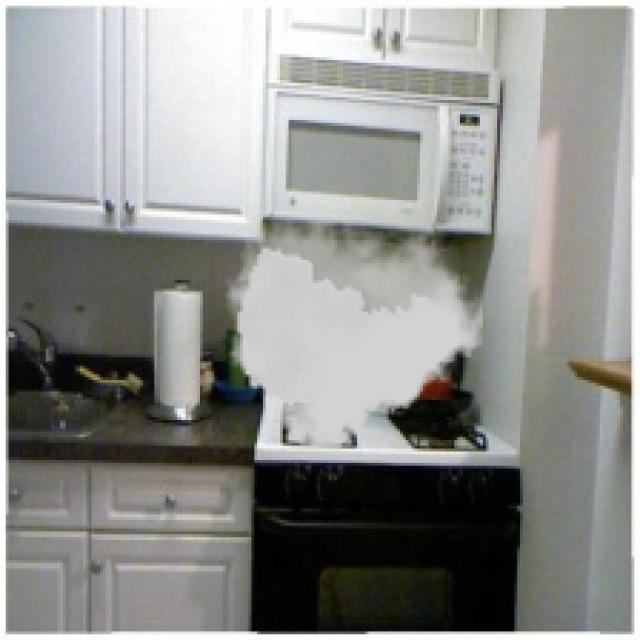Smoke: (226, 212, 483, 452)
